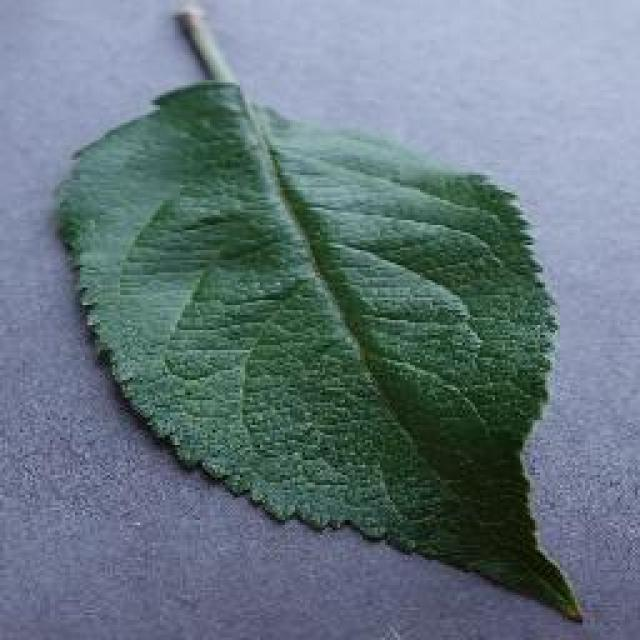apple scab disease: (50, 0, 585, 622)
